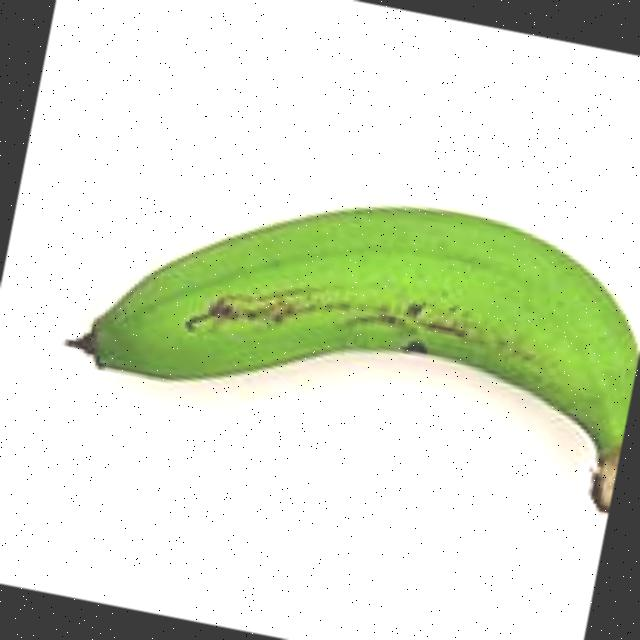Raw: (37, 106, 640, 562)
